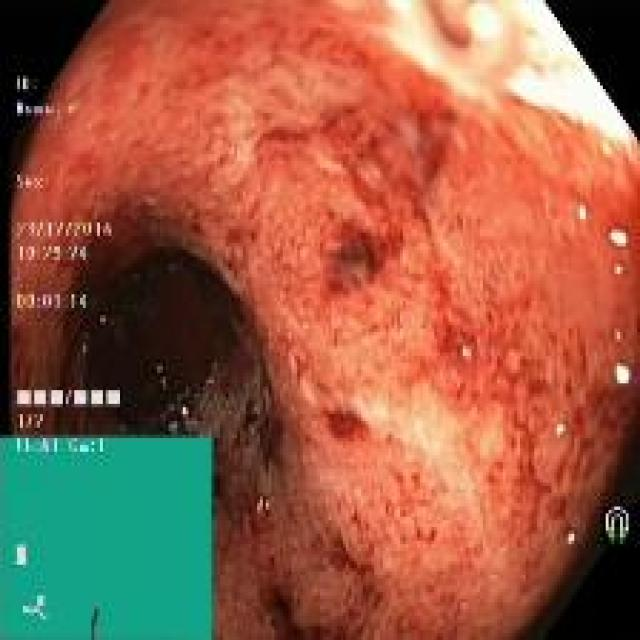ulcerative-colitis-grade-3: (12, 3, 640, 639)
